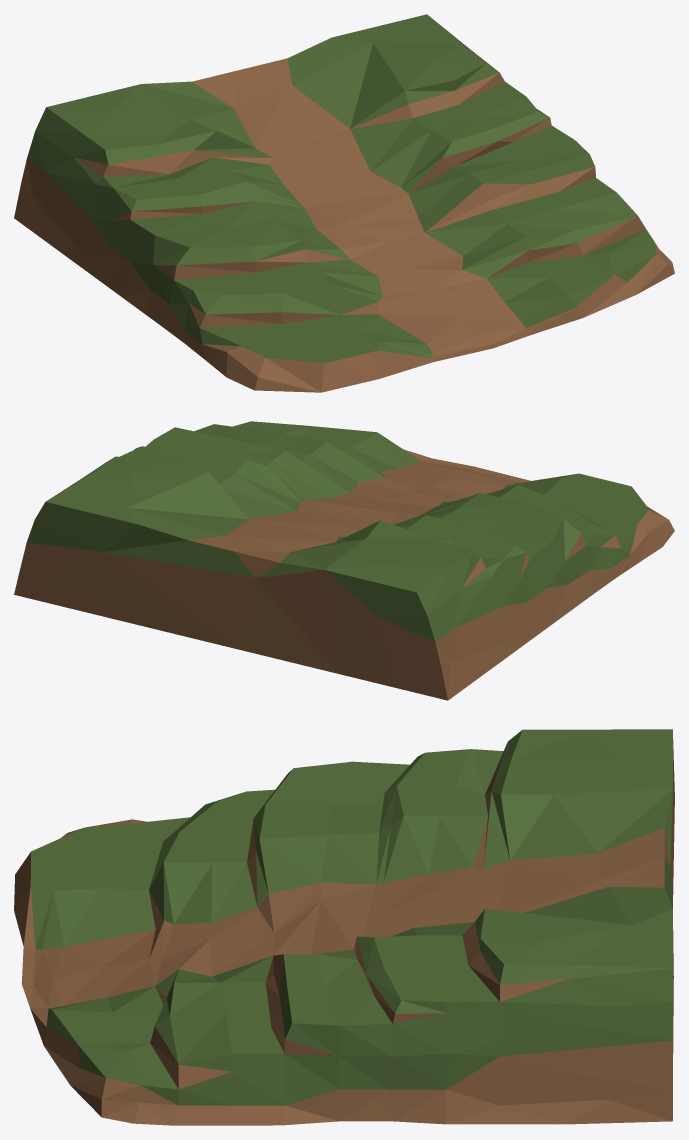
Rendered from Hill_2_2 Asia.fbx.
3 views of the same model, one above another, from view 1: azimuth 30°, elevation 25°; view 2: azimuth 150°, elevation 25°; view 3: azimuth 270°, elevation 25° (orthographic). The views are drawn at different scales.
Visible parts, largest first — view 1: Hill_2_2; view 2: Hill_2_2; view 3: Hill_2_2.
Part boxes in pixels (x1,y1,x2,y2): Hill_2_2: (14, 14, 674, 392); Hill_2_2: (14, 421, 674, 700); Hill_2_2: (14, 729, 674, 1125).
Size of the model in its own units: 21.57 by 4.78 by 21.07.
